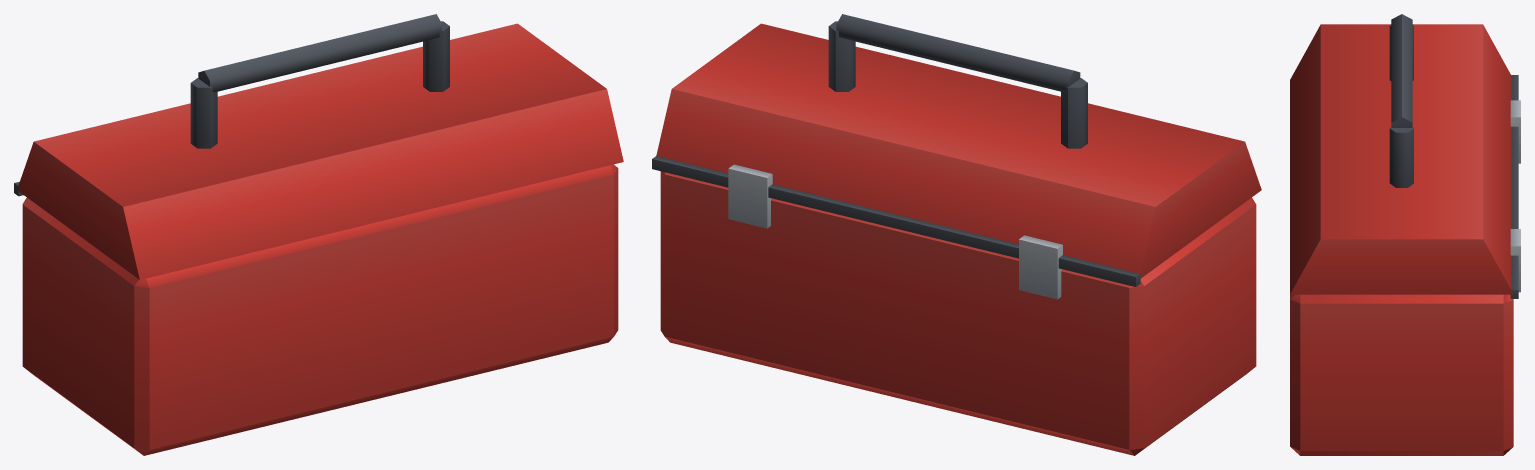
Rendered from ck_toolbox.fbx.
The picture shows the model from 3 angles, left to right: view 1: azimuth 30°, elevation 25°; view 2: azimuth 150°, elevation 25°; view 3: azimuth 270°, elevation 25°; orthographic projection. The views are drawn at different scales.
Visible parts, largest first — view 1: ck_toolbox; view 2: ck_toolbox; view 3: ck_toolbox.
Boxes of the visible parts, <box> form: ck_toolbox: <box>14,14,623,455</box>; ck_toolbox: <box>652,14,1261,455</box>; ck_toolbox: <box>1290,14,1520,455</box>.
Size of the model in its own units: 160 by 99.84 by 72.64.
